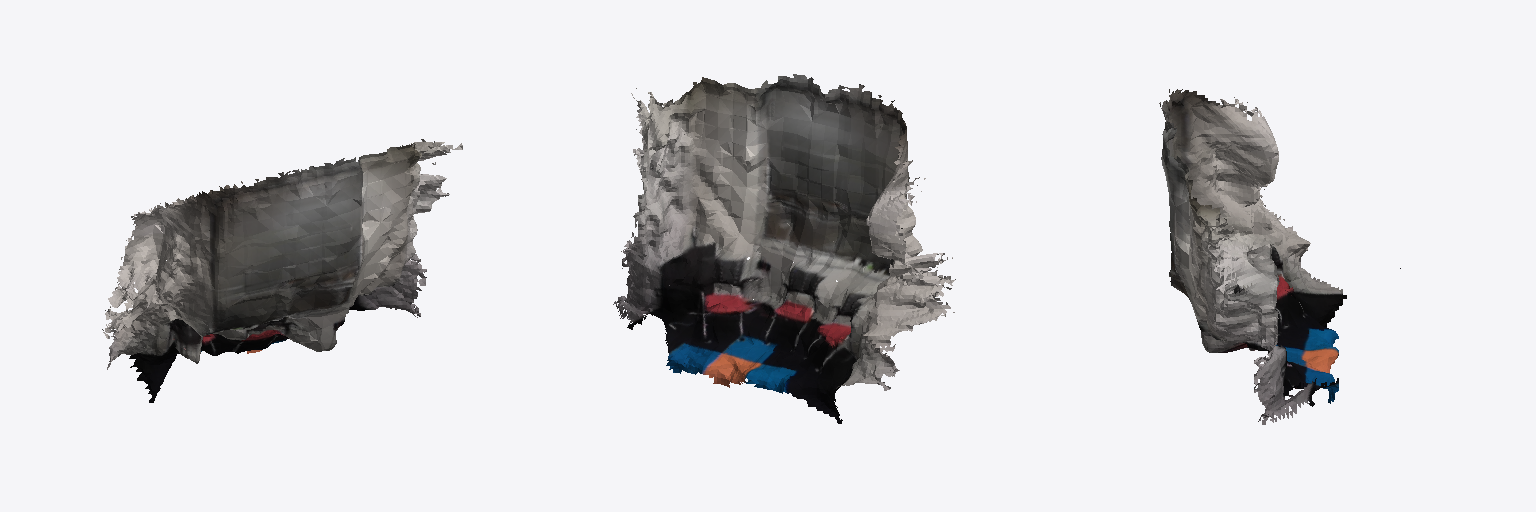
3 views of the same model, side by side, from view 1: azimuth 30°, elevation 25°; view 2: azimuth 150°, elevation 25°; view 3: azimuth 270°, elevation 25° (orthographic).
Visible parts, largest first — view 1: Mesh_0, Mesh_1; view 2: Mesh_0, Mesh_1; view 3: Mesh_0, Mesh_1.
Part boxes in pixels (bbox=[...]): Mesh_0: bbox=[103, 142, 449, 402]; Mesh_1: bbox=[102, 139, 462, 401]; Mesh_0: bbox=[613, 74, 955, 423]; Mesh_1: bbox=[616, 80, 954, 421]; Mesh_0: bbox=[1159, 89, 1400, 422]; Mesh_1: bbox=[1167, 89, 1341, 424].
Size of the model in its own units: 4.12 by 3.12 by 2.52.
2 materials, 2 textured.